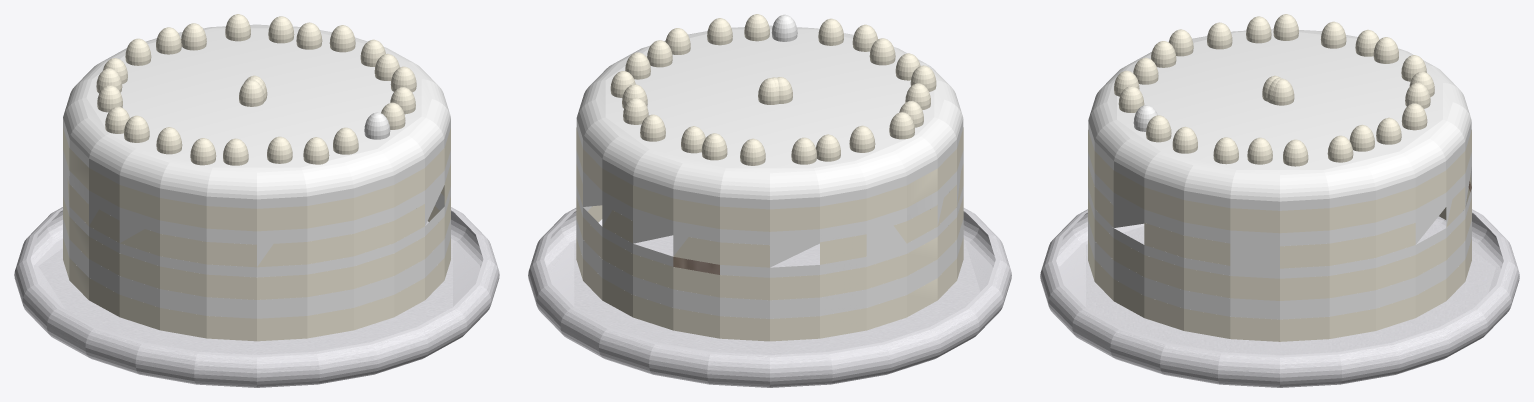
The model's file is torta-5.glb.
3 renders of one model, left to right at view 1: azimuth 30°, elevation 25°; view 2: azimuth 150°, elevation 25°; view 3: azimuth 270°, elevation 25°, orthographic.
Parts seen in each view (by area): view 1: SketchUp, SketchUp.001, SketchUp.002, SketchUp.019; view 2: SketchUp, SketchUp.001, SketchUp.002, SketchUp.019; view 3: SketchUp, SketchUp.001, SketchUp.002, SketchUp.019.
Part boxes in pixels (x1,y1,x2,y2): SketchUp: [63, 24, 450, 318]; SketchUp.001: [63, 14, 450, 341]; SketchUp.002: [14, 207, 499, 387]; SketchUp.019: [364, 112, 390, 139]; SketchUp: [576, 25, 963, 318]; SketchUp.001: [576, 14, 963, 341]; SketchUp.002: [528, 208, 1011, 387]; SketchUp.019: [771, 14, 797, 41]; SketchUp: [1088, 29, 1471, 319]; SketchUp.001: [1088, 14, 1471, 341]; SketchUp.002: [1040, 209, 1519, 387]; SketchUp.019: [1133, 105, 1157, 131].
Size of the model in its own units: 0.2462 by 0.1199 by 0.2462.
4 materials, 2 textured.
